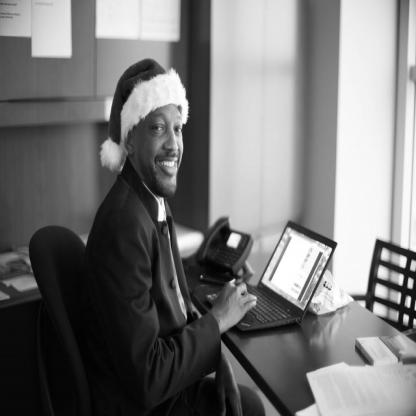board: (227, 223, 343, 345)
